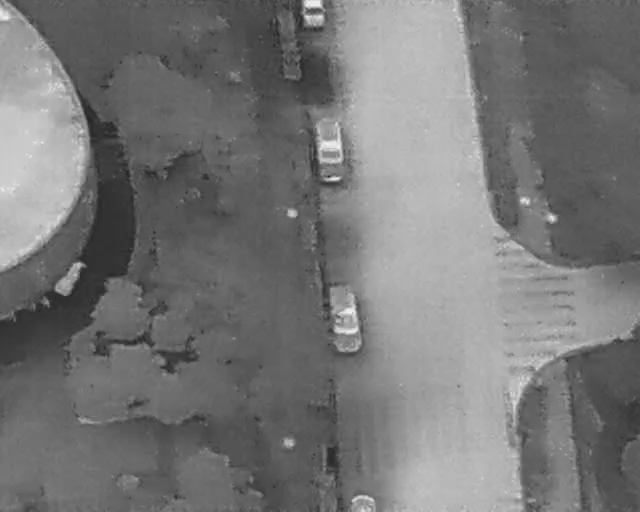Car: (326, 281, 363, 354), (313, 115, 346, 185), (301, 0, 326, 26)
